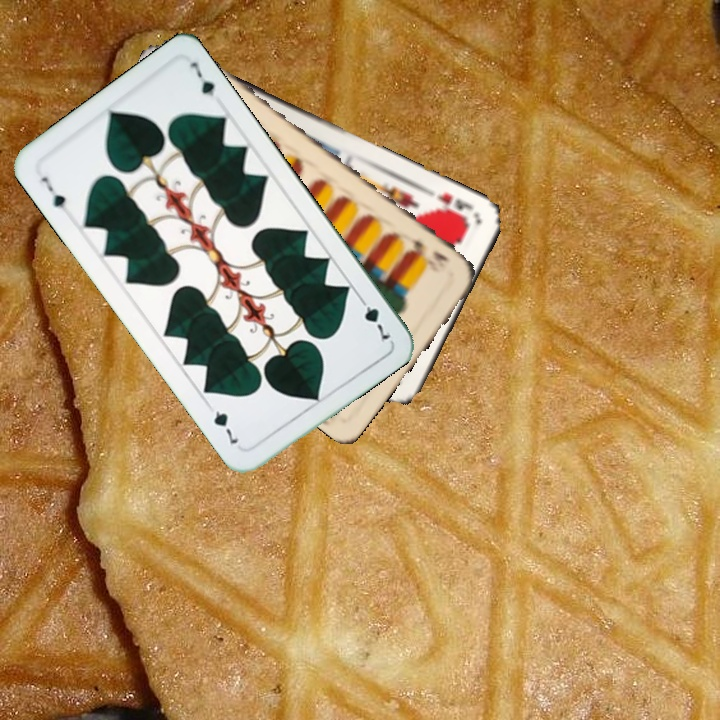E10: (407, 234, 453, 265)
G7: (354, 291, 393, 345), (36, 172, 68, 211)
HK: (425, 185, 477, 226)
